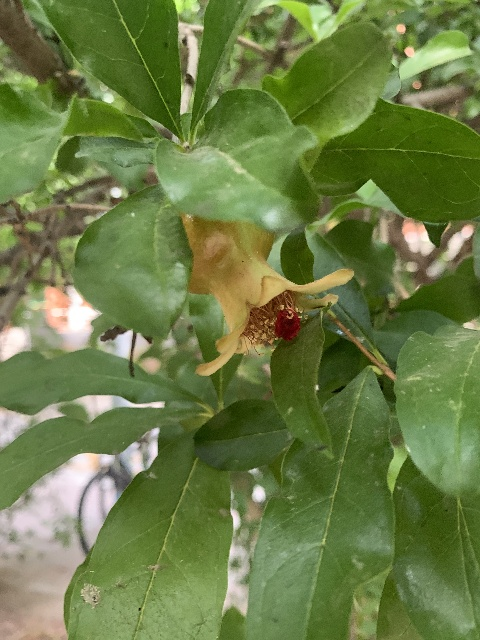early-fruit: (182, 213, 354, 376)
